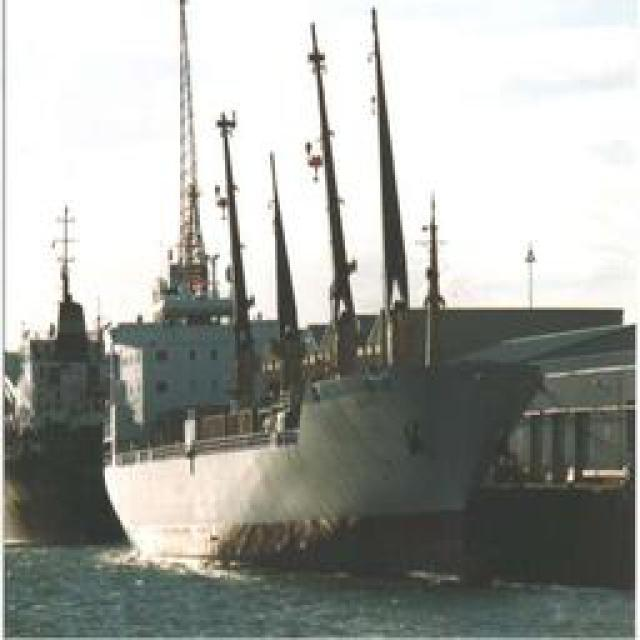Ship: (87, 1, 605, 586)
